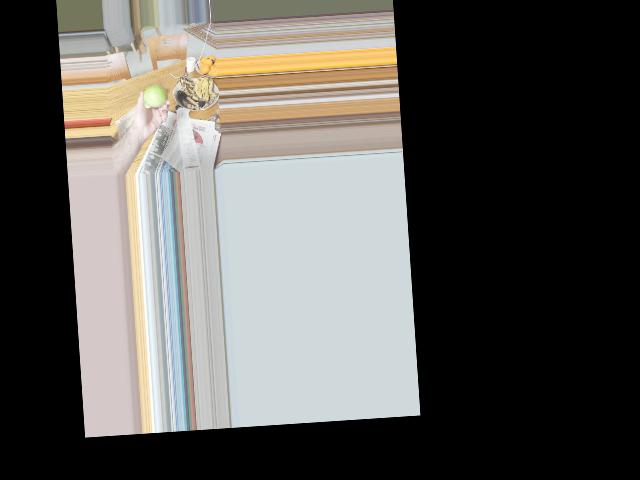apple: (143, 79, 167, 109)
